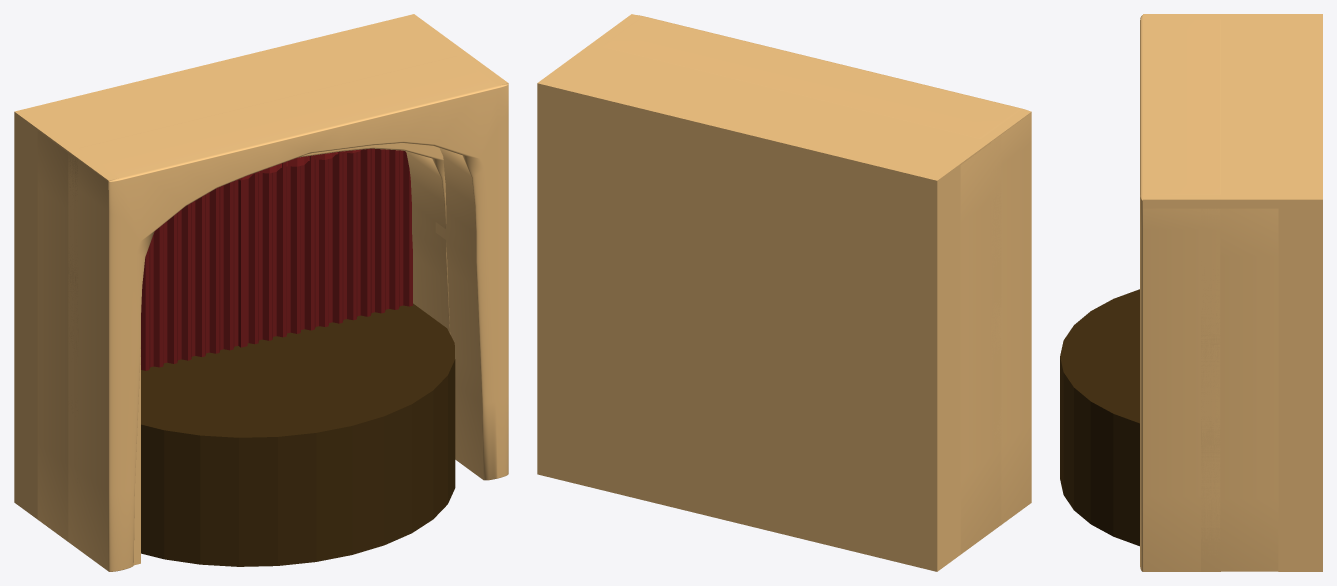
Rendered from wagner.glb.
The picture shows the model from 3 angles, left to right: view 1: azimuth 30°, elevation 25°; view 2: azimuth 150°, elevation 25°; view 3: azimuth 270°, elevation 25°; orthographic projection. The views are drawn at different scales.
Visible parts, largest first — view 1: Cube.005; view 2: Cube.005; view 3: Cube.005.
Boxes of the visible parts, x1,y1,x2,y2 form: Cube.005: [14, 14, 508, 571]; Cube.005: [537, 14, 1031, 571]; Cube.005: [1060, 14, 1322, 571].
Size of the model in its own units: 46.19 by 43.28 by 27.62.
